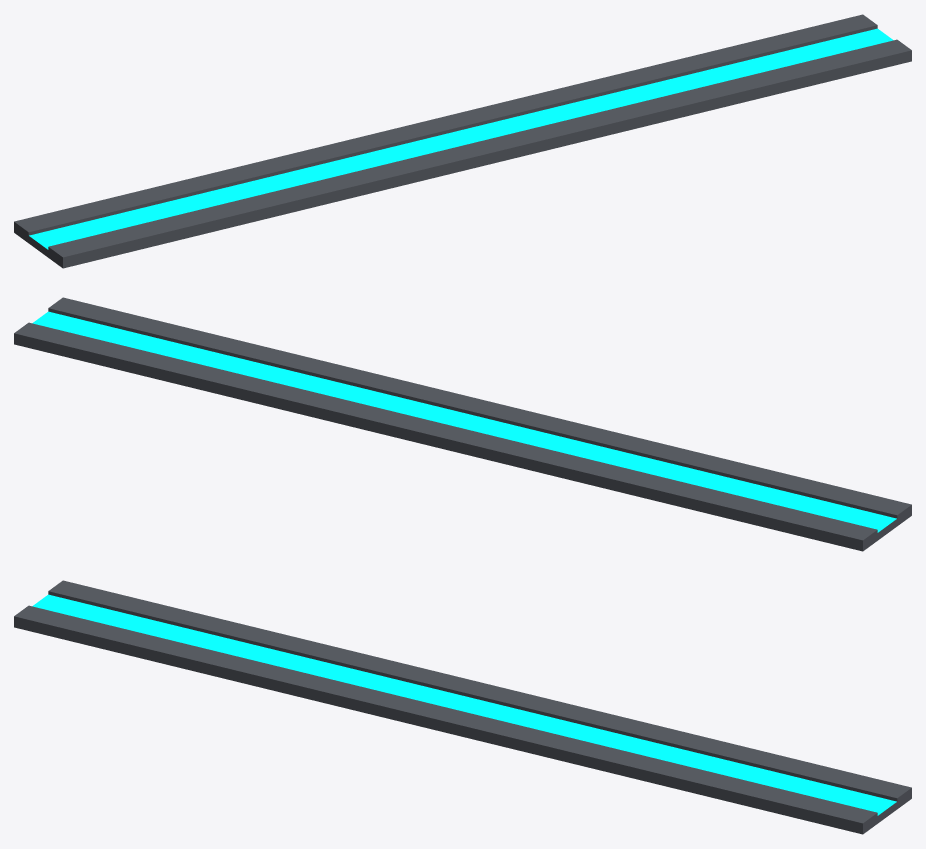
File: ENV_MOD_15_ThresholdMarker.glb
The picture shows the model from 3 angles, top to bottom: view 1: azimuth 30°, elevation 25°; view 2: azimuth 150°, elevation 25°; view 3: azimuth 330°, elevation 25°; orthographic projection.
Parts seen in each view (by area): view 1: SM_ENV_MOD_15_ThresholdMarker; view 2: SM_ENV_MOD_15_ThresholdMarker; view 3: SM_ENV_MOD_15_ThresholdMarker.
Boxes of the visible parts, x1,y1,x2,y2 form: SM_ENV_MOD_15_ThresholdMarker: [14, 14, 911, 268]; SM_ENV_MOD_15_ThresholdMarker: [14, 297, 911, 551]; SM_ENV_MOD_15_ThresholdMarker: [14, 580, 911, 834].
Bounding box in the file's own units: 4 × 0.05 × 0.4.
